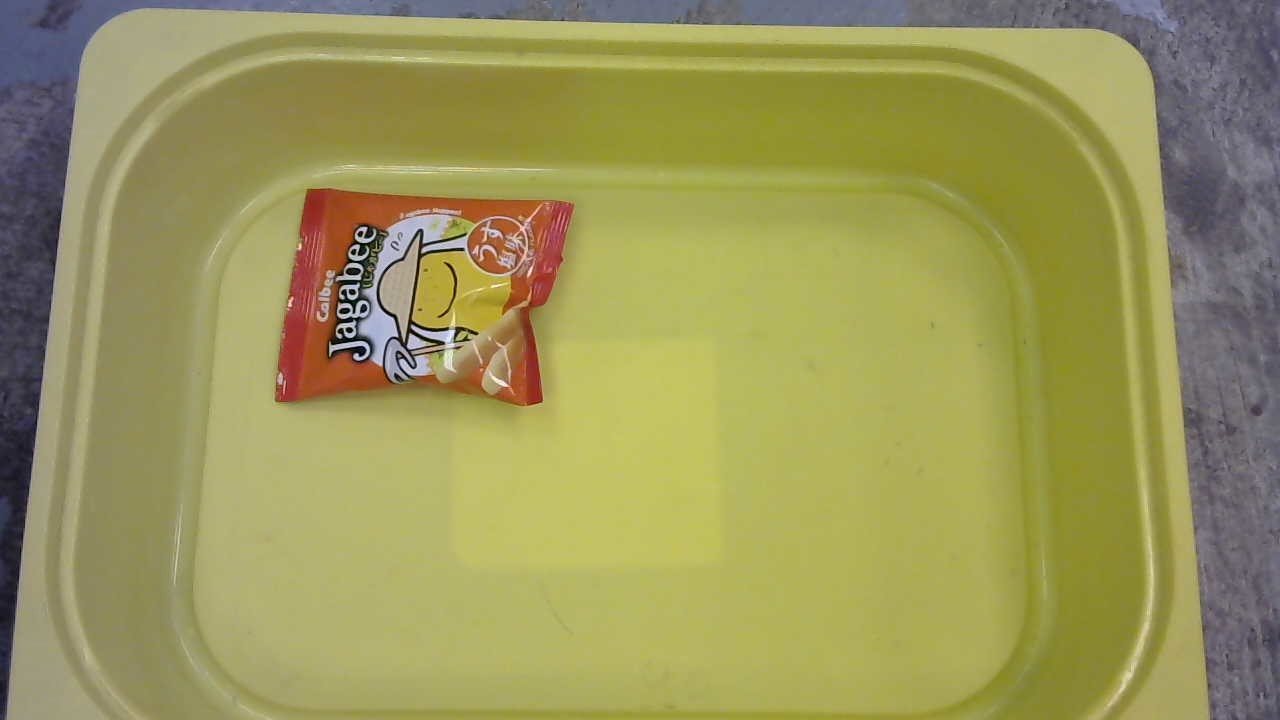JagabeeFarmer: (256, 174, 572, 429)
